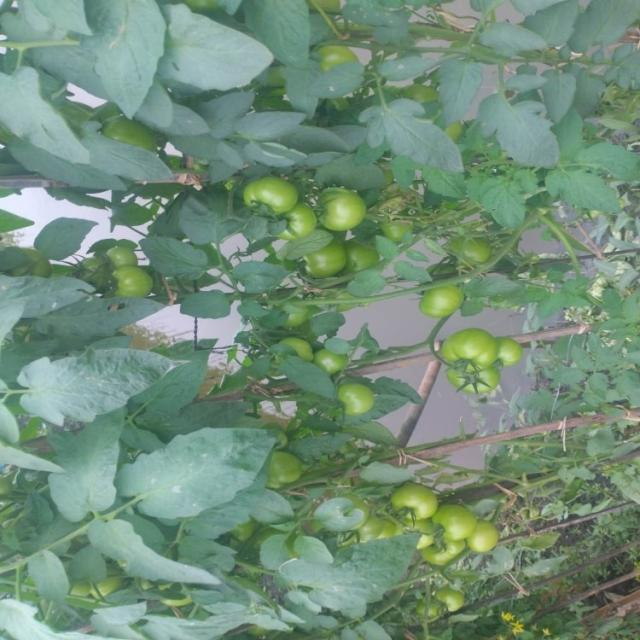tomato: (397, 478, 452, 526), (438, 334, 498, 374), (338, 382, 379, 436), (254, 171, 305, 214), (320, 186, 364, 234), (344, 244, 394, 285), (107, 113, 153, 156), (283, 201, 329, 243), (307, 234, 346, 283), (426, 283, 465, 329), (110, 266, 159, 301), (457, 230, 502, 267), (454, 362, 498, 397), (414, 536, 462, 568), (462, 520, 494, 563), (276, 331, 317, 362), (271, 447, 306, 483), (353, 516, 391, 548), (438, 500, 466, 542), (317, 39, 360, 64), (438, 584, 466, 620), (102, 244, 139, 268), (498, 334, 522, 361), (317, 353, 340, 377)
